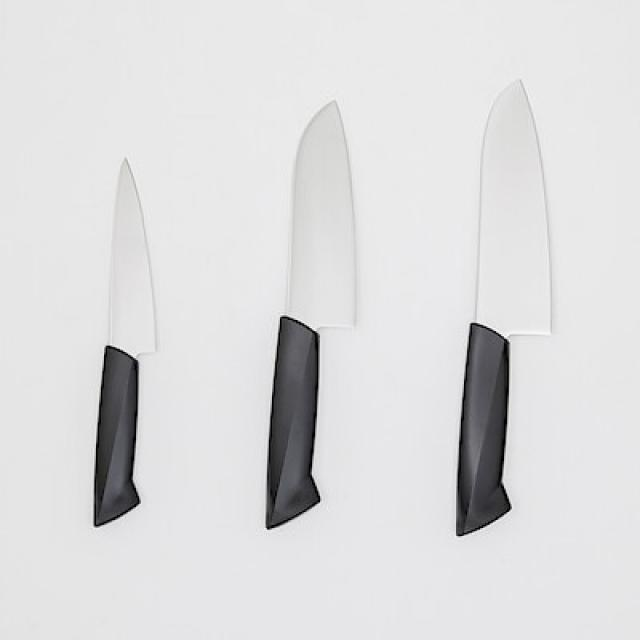Knife: (454, 77, 552, 536), (264, 99, 357, 528), (93, 157, 157, 526)
